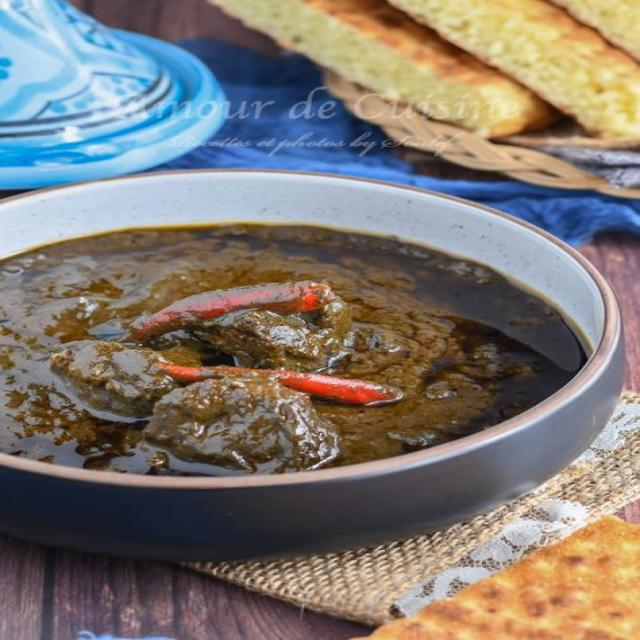Melloukhia: (0, 181, 591, 530)
